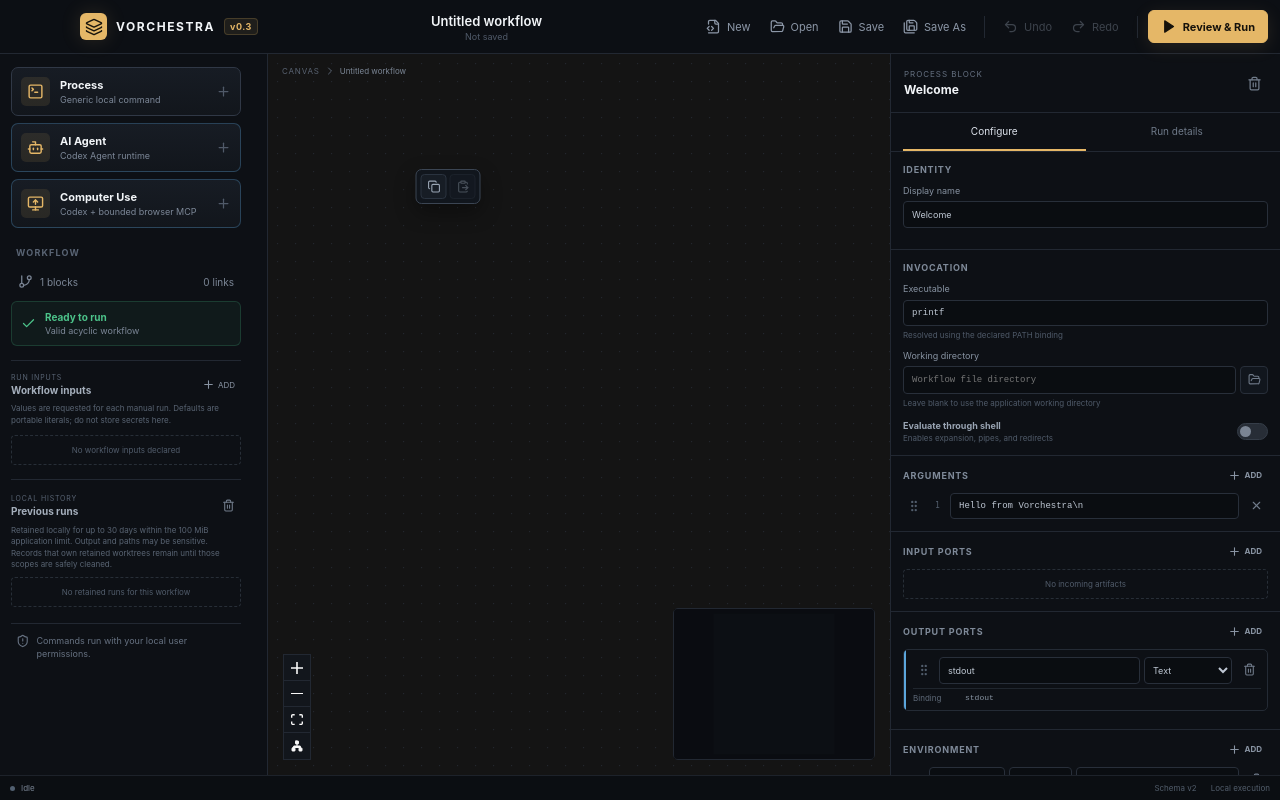
Test case: block configuration ordering › clears draft history when opening or creating a workflow
The image size is (1280, 800).
Replace the text in the field named "Workflow name" with "Discard this edit" at (486, 21), box [287,11,686,31]
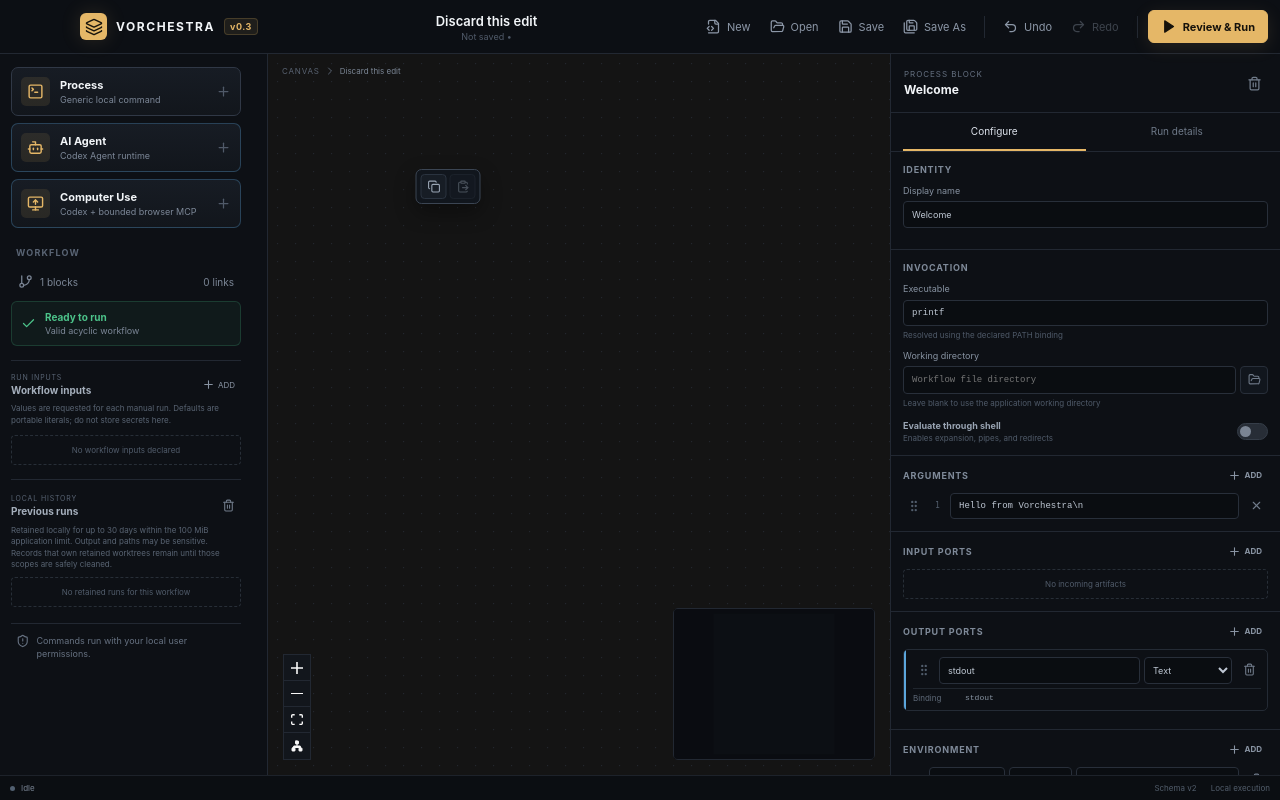
Click the button labelled "Open".
click(794, 26)  # box [762,12,827,41]
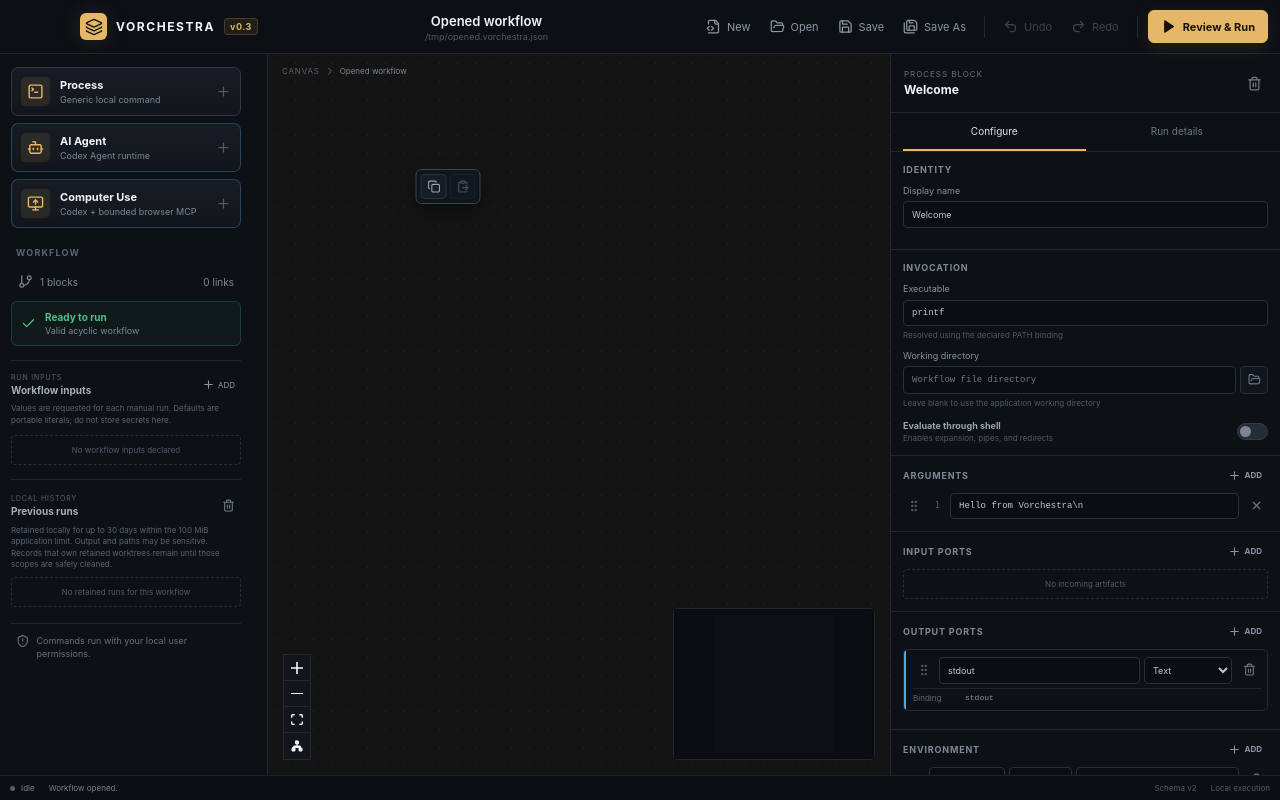
Now the field named "Workflow name" holds "Opened workflow"
Now the button labelled "Undo" is disabled, box [995,12,1060,41]
Replace the text in the field named "Workflow name" with "Discard another edit" at (486, 21), box [287,11,686,31]
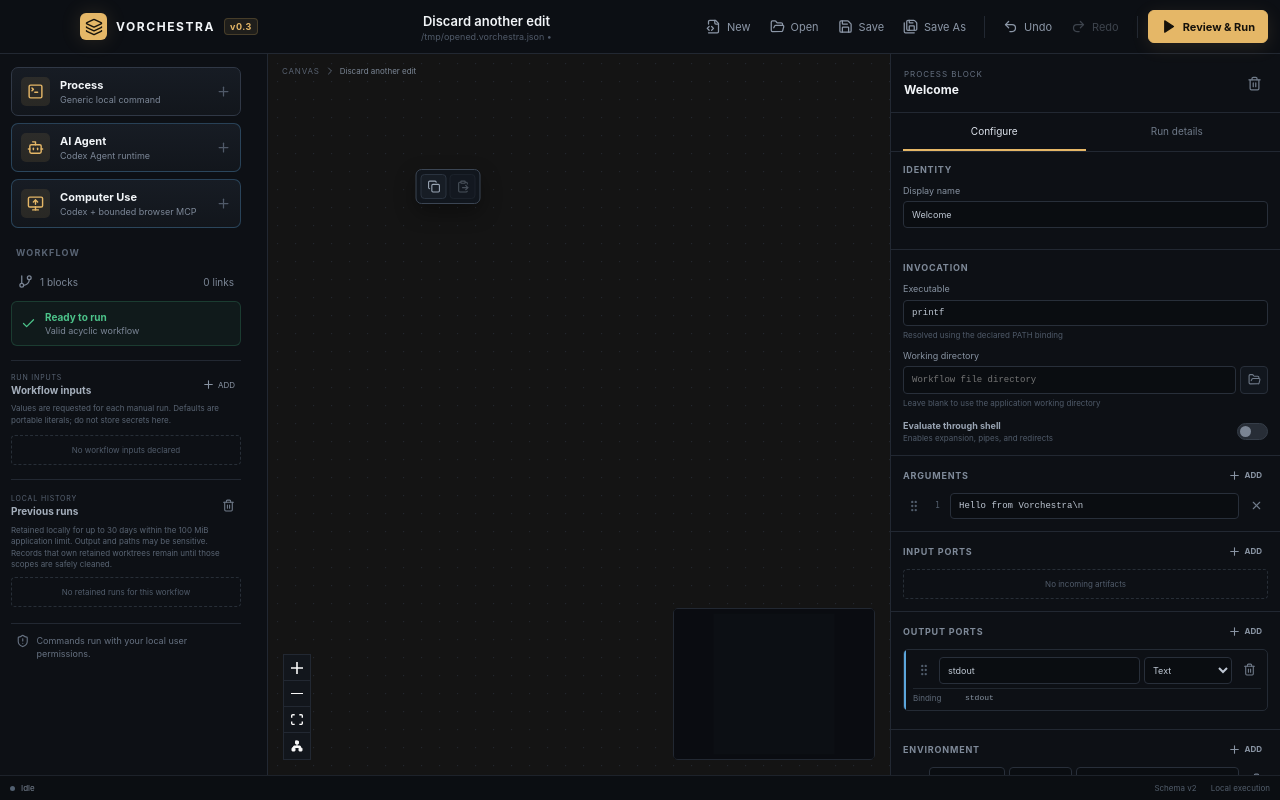
Click the button labelled "New".
click(728, 26)  # box [698,12,758,41]
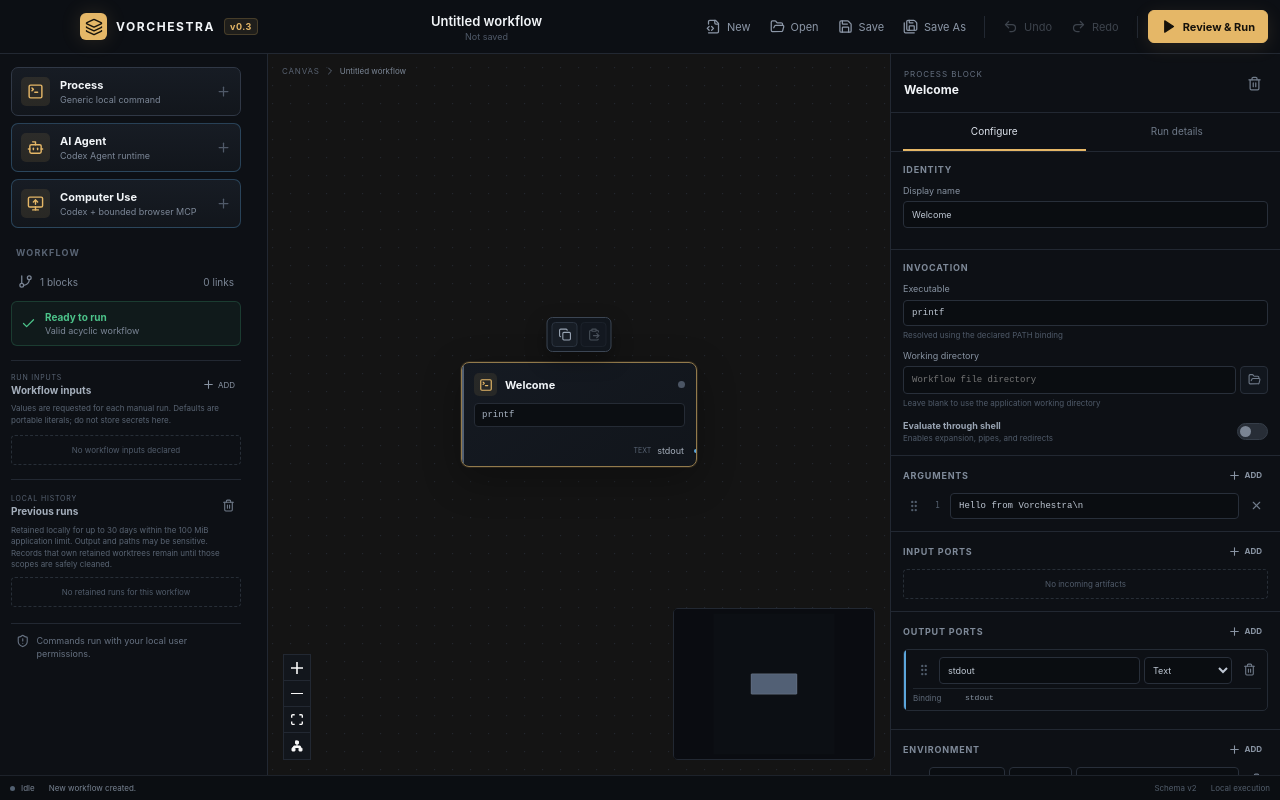
Now the field named "Workflow name" holds "Untitled workflow", box [287,11,686,31]
Now the button labelled "Undo" is disabled, box [995,12,1060,41]
